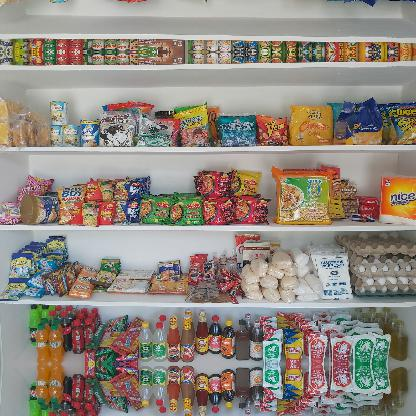Lady-s-Choice: (21, 194, 60, 224)
